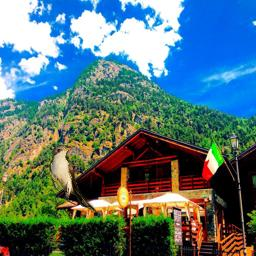Cuckoo: (49, 145, 97, 215)
